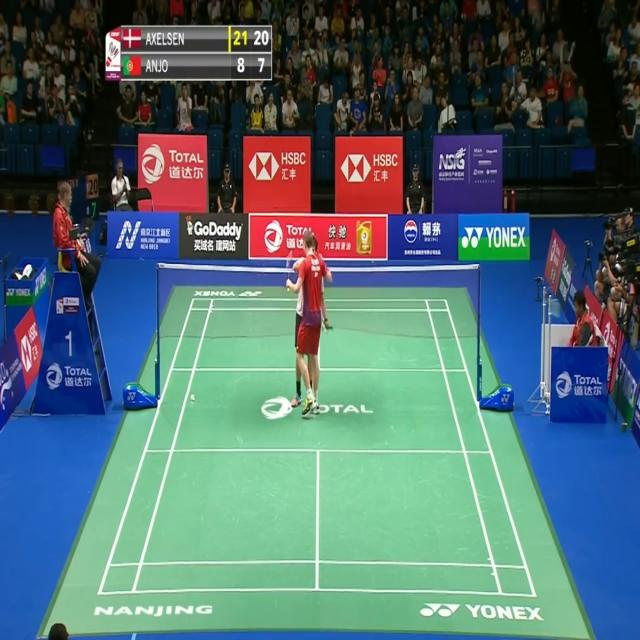Player1: (282, 221, 334, 424)
